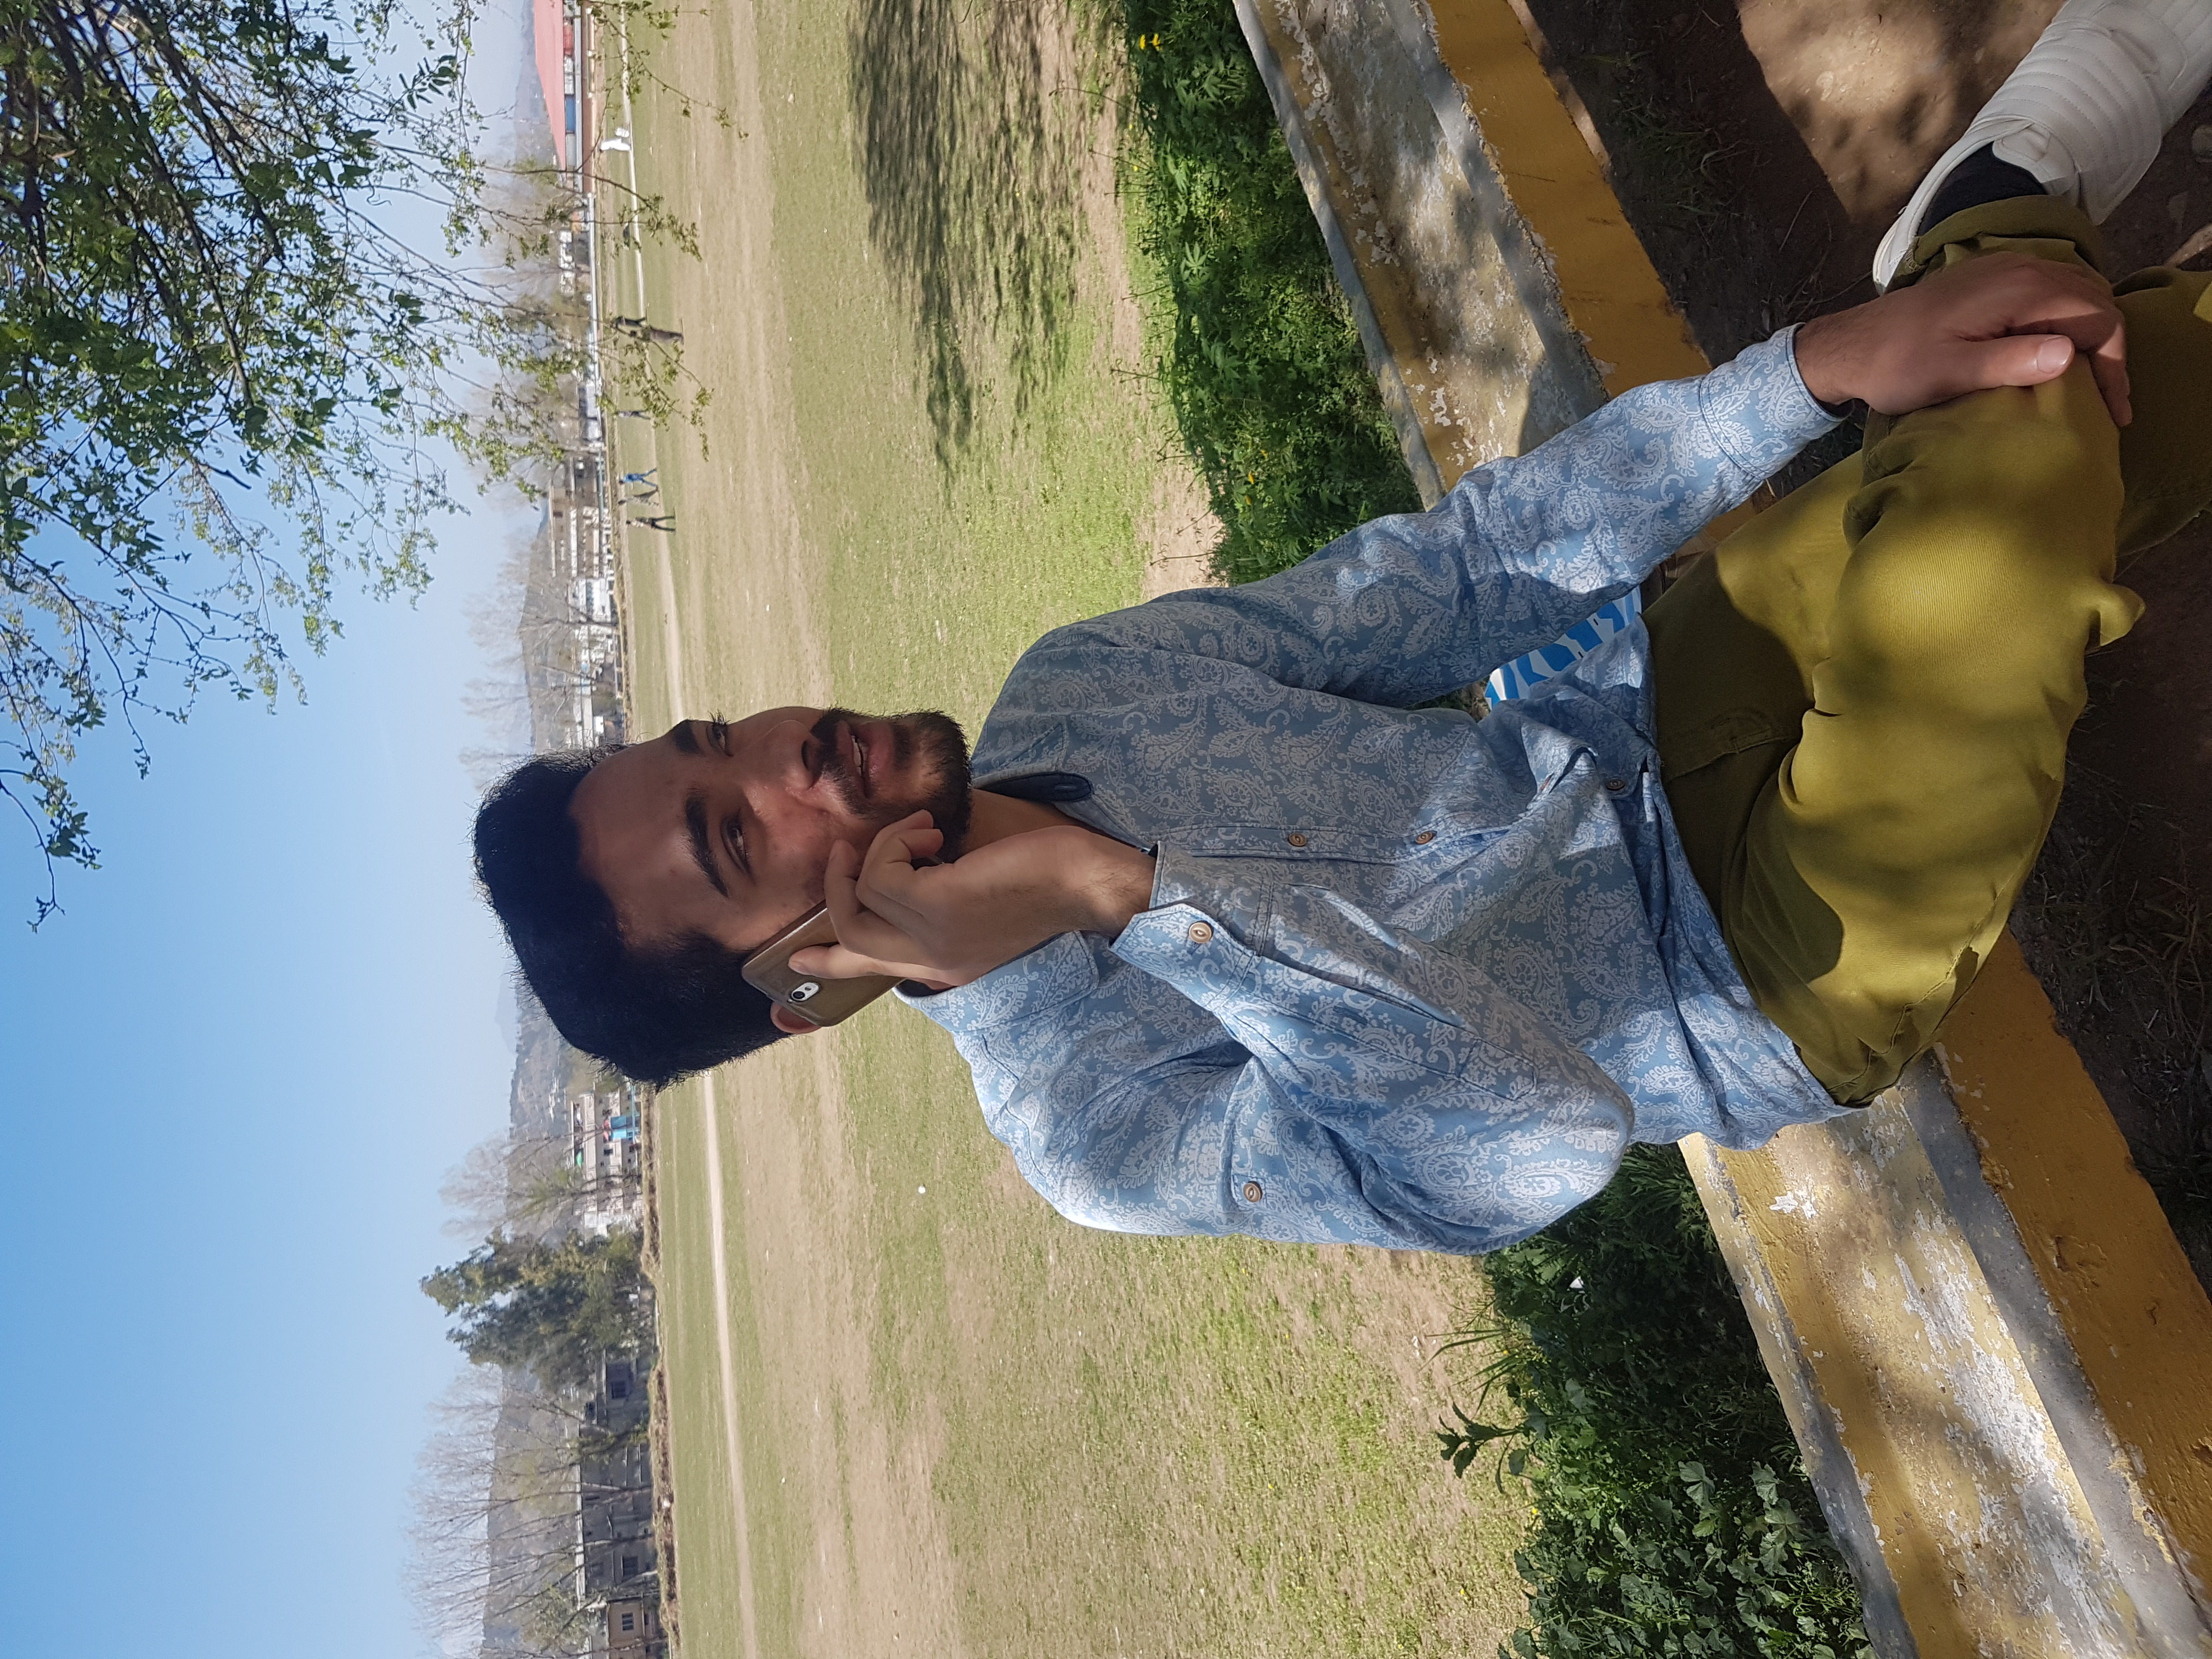face: (488, 702, 995, 933)
mobile: (732, 919, 902, 1015)
